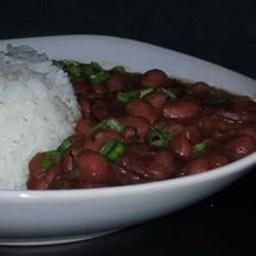background: (0, 16, 102, 76)
